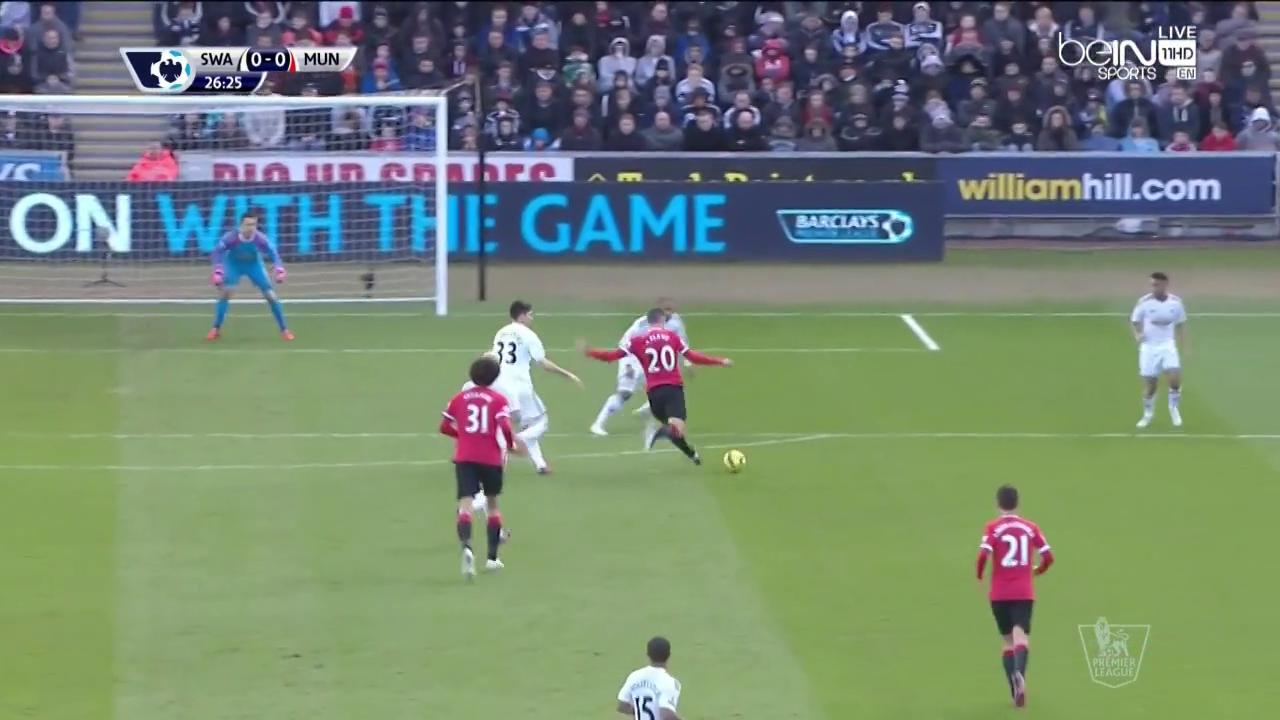football: (723, 449, 746, 473)
